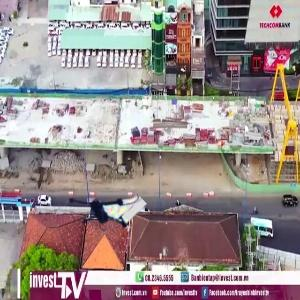drone: (62, 171, 137, 246)
